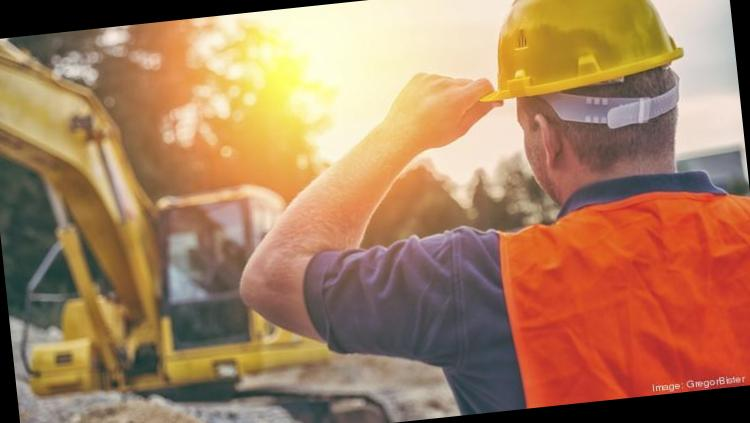helmet: (460, 0, 688, 106)
